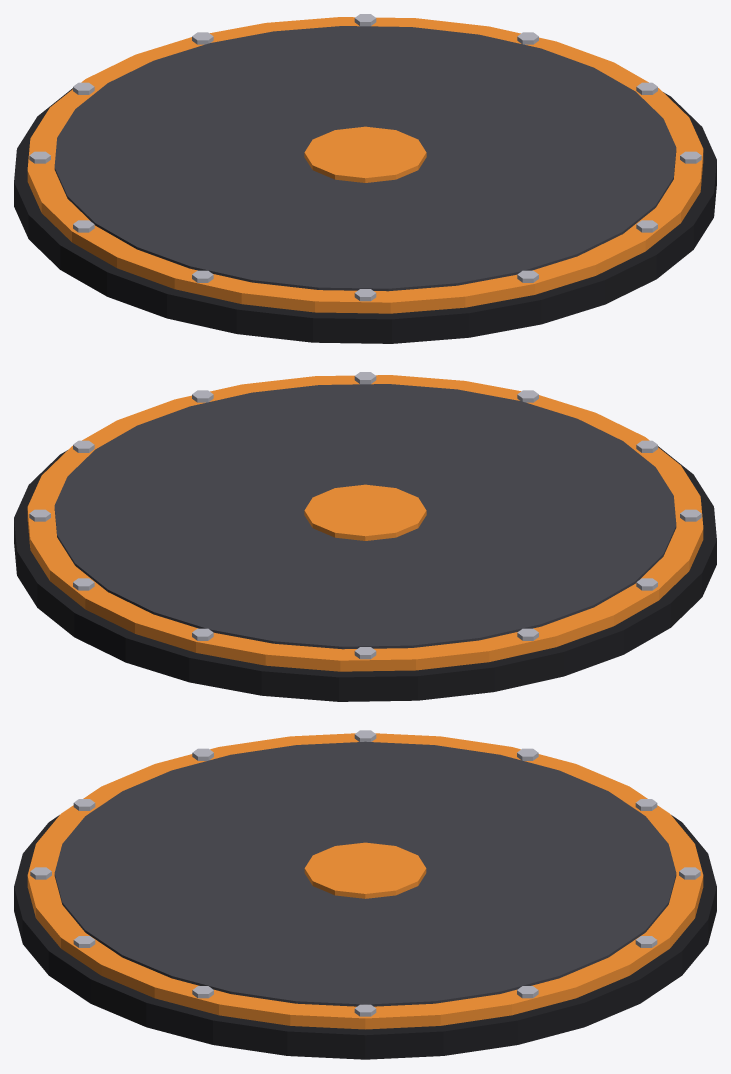
The model's file is turntable.glb.
3 views of the same model, one above another, from view 1: azimuth 30°, elevation 25°; view 2: azimuth 150°, elevation 25°; view 3: azimuth 270°, elevation 25° (orthographic).
Visible parts, largest first — view 1: DiamondPlate__46464E, SmoothPlastic__FF9632, SmoothPlastic__222226, Metal__BEBEC8; view 2: DiamondPlate__46464E, SmoothPlastic__FF9632, SmoothPlastic__222226, Metal__BEBEC8; view 3: DiamondPlate__46464E, SmoothPlastic__FF9632, SmoothPlastic__222226, Metal__BEBEC8.
Part boxes in pixels (x1=…): DiamondPlate__46464E: x1=54, y1=26, x2=676, y2=291; SmoothPlastic__FF9632: x1=27, y1=17, x2=703, y2=313; SmoothPlastic__222226: x1=14, y1=88, x2=716, y2=343; Metal__BEBEC8: x1=29, y1=14, x2=701, y2=301; DiamondPlate__46464E: x1=54, y1=384, x2=676, y2=649; SmoothPlastic__FF9632: x1=27, y1=375, x2=703, y2=671; SmoothPlastic__222226: x1=14, y1=446, x2=716, y2=701; Metal__BEBEC8: x1=29, y1=372, x2=701, y2=659; DiamondPlate__46464E: x1=54, y1=741, x2=676, y2=1006; SmoothPlastic__FF9632: x1=27, y1=733, x2=703, y2=1029; SmoothPlastic__222226: x1=14, y1=815, x2=716, y2=1059; Metal__BEBEC8: x1=30, y1=730, x2=700, y2=1016.
Size of the model in its own units: 10.4 by 0.71 by 10.4.
